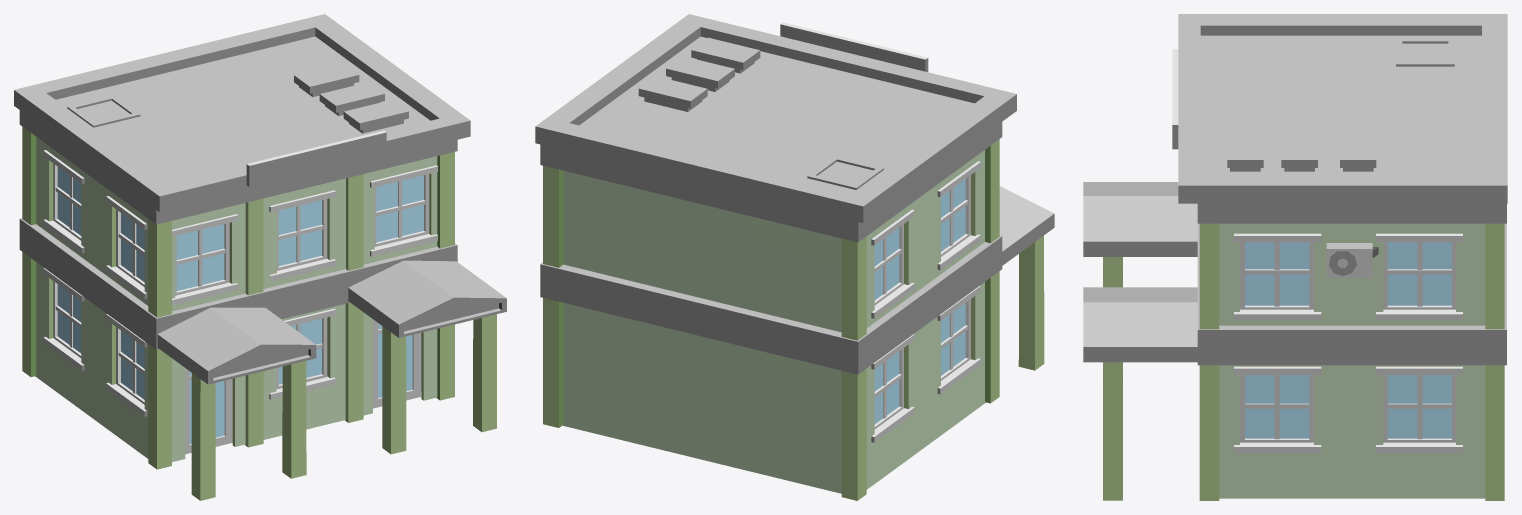
File: bank_009.fbx
The picture shows the model from 3 angles, left to right: view 1: azimuth 30°, elevation 25°; view 2: azimuth 150°, elevation 25°; view 3: azimuth 270°, elevation 25°; orthographic projection. The views are drawn at different scales.
Visible parts, largest first — view 1: bank_009; view 2: bank_009; view 3: bank_009.
Part boxes in pixels (x1=…): bank_009: x1=14, y1=14, x2=506, y2=500; bank_009: x1=535, y1=14, x2=1054, y2=500; bank_009: x1=1083, y1=14, x2=1507, y2=500.
Size of the model in its own units: 715 by 646 by 747.
